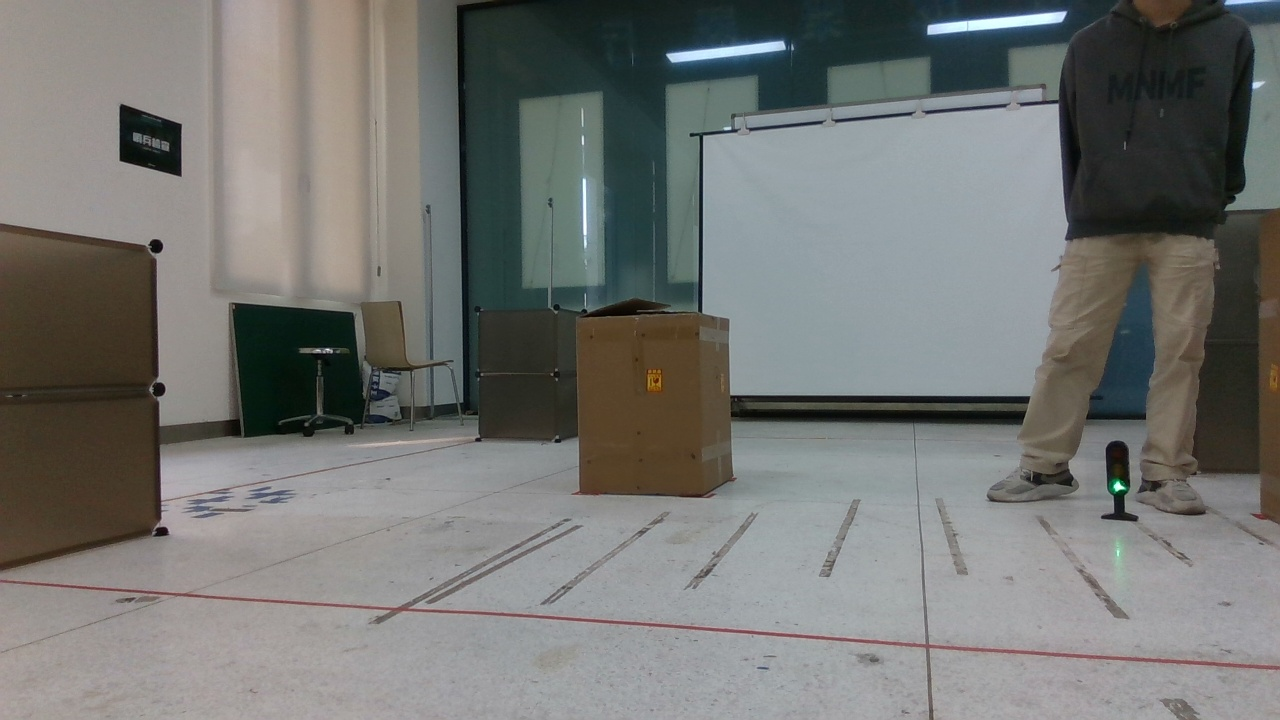green_light: (1084, 433, 1144, 529)
